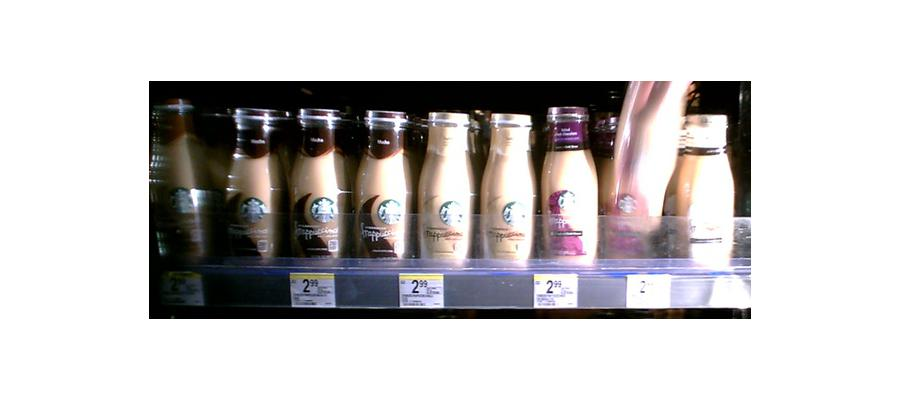bottle: (602, 78, 676, 261), (158, 95, 219, 275), (674, 107, 738, 276), (351, 105, 413, 267), (222, 104, 285, 263), (286, 106, 348, 267), (414, 107, 475, 270), (479, 111, 538, 271), (541, 109, 600, 267)
